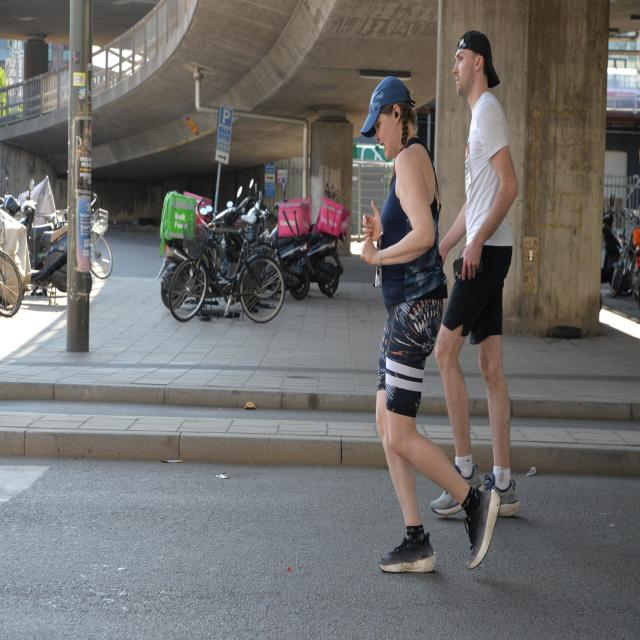runner-detect: (354, 71, 499, 588), (433, 25, 542, 526)
